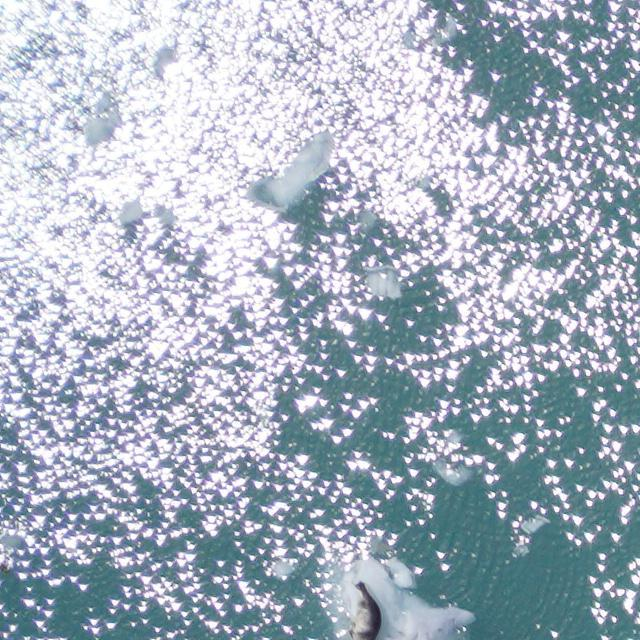seal: (346, 579, 385, 639)
